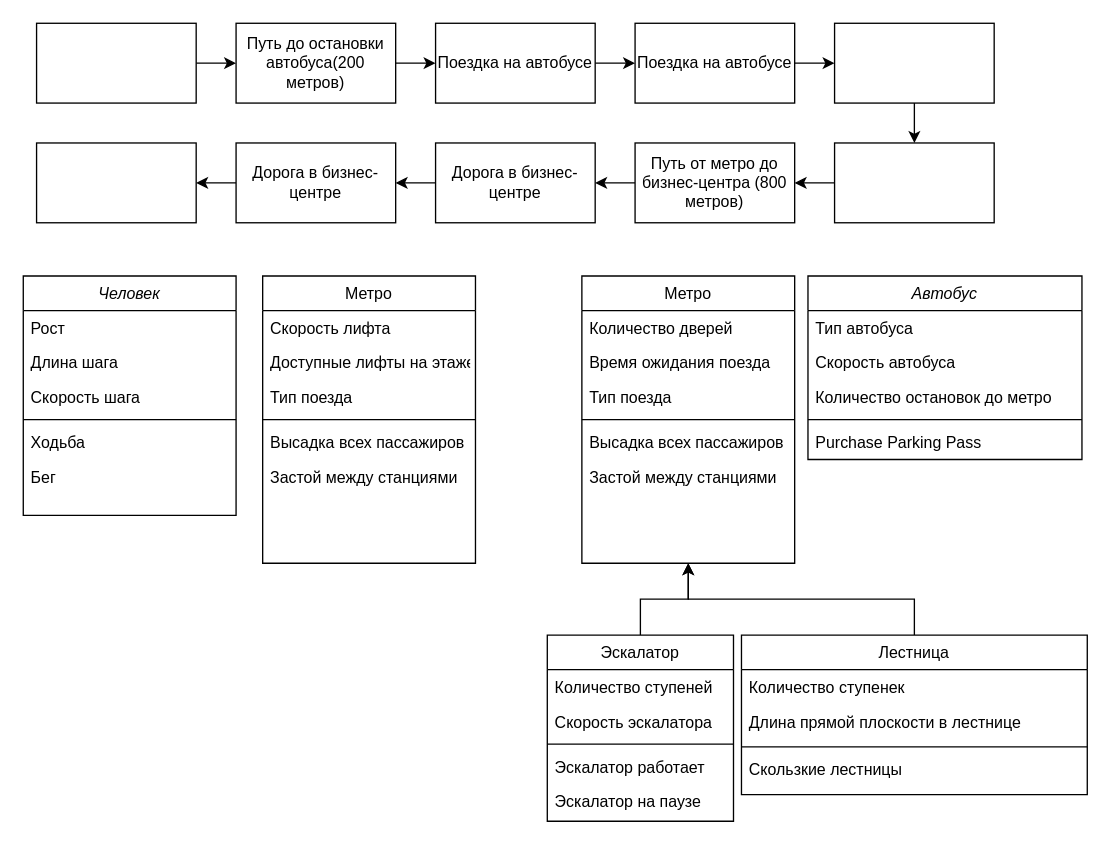
Image size: 1111x846. Some labels were removed from this diagram. Each missing label, with the centre of its shape:
"Выход из дома" goes at pixel 115 62.
"Путь в метро" goes at pixel 913 182.
"Путь от остановки до метро(100 метров)" goes at pixel 913 62.
"Работа" goes at pixel 115 182.
